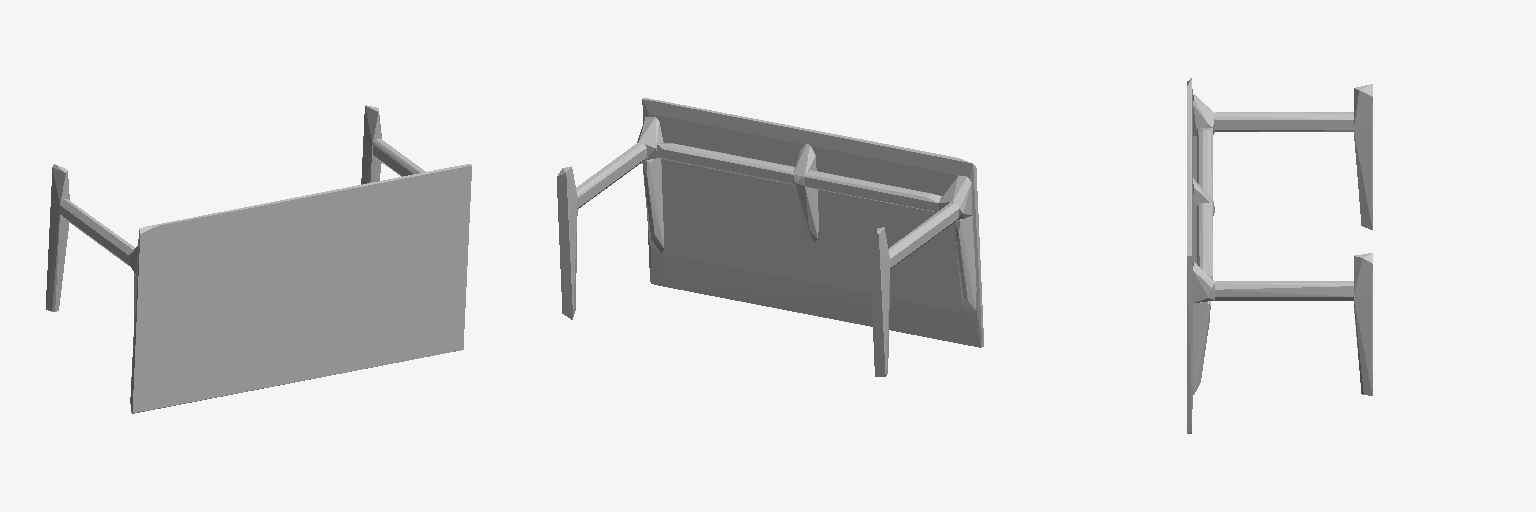
3 renders of one model, left to right at view 1: azimuth 30°, elevation 25°; view 2: azimuth 150°, elevation 25°; view 3: azimuth 270°, elevation 25°, orthographic.
Parts seen in each view (by area): view 1: convex_0, convex_1, convex_2, convex_3, convex_4; view 2: convex_0, convex_10, convex_3, convex_1, convex_9, convex_4, convex_2, convex_5, convex_7, convex_8, convex_6; view 3: convex_2, convex_4, convex_3, convex_1, convex_10, convex_0, convex_5, convex_6, convex_8, convex_9.
Part boxes in pixels (x1,y1,x2,y2): convex_0: (130, 164, 471, 413); convex_1: (46, 164, 69, 311); convex_2: (60, 199, 134, 266); convex_3: (361, 105, 381, 184); convex_4: (373, 138, 425, 176); convex_0: (642, 98, 983, 347); convex_10: (656, 143, 941, 211); convex_3: (557, 166, 577, 319); convex_1: (869, 227, 889, 376); convex_9: (793, 144, 818, 241); convex_4: (576, 142, 646, 208); convex_2: (889, 202, 958, 268); convex_5: (642, 158, 663, 252); convex_7: (955, 215, 976, 310); convex_8: (938, 175, 971, 219); convex_6: (637, 117, 663, 159); convex_2: (1215, 112, 1353, 131); convex_4: (1215, 281, 1353, 300); convex_3: (1354, 253, 1372, 395); convex_1: (1354, 84, 1372, 229); convex_10: (1197, 128, 1212, 278); convex_0: (1187, 78, 1192, 433); convex_5: (1193, 301, 1210, 394); convex_6: (1193, 262, 1214, 302); convex_8: (1193, 94, 1214, 135); convex_9: (1193, 178, 1214, 263).
Size of the model in its own units: 1.51 by 0.8424 by 0.7129.